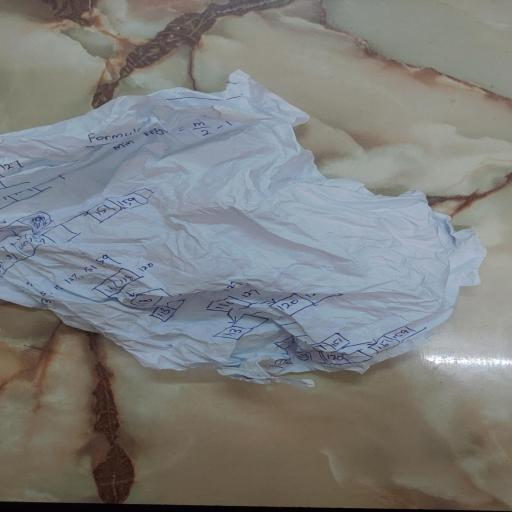paper: (0, 72, 478, 381)
